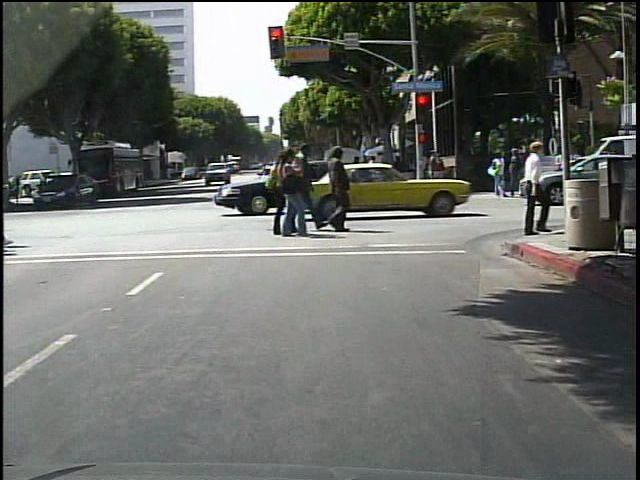person: (506, 138, 549, 241)
